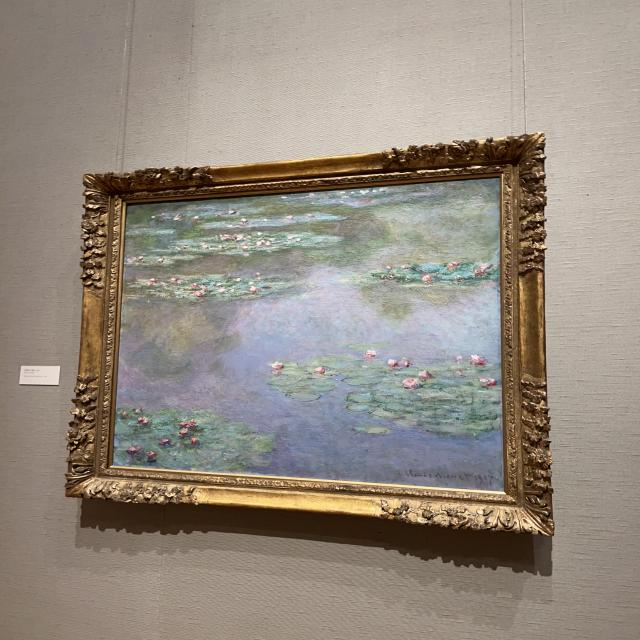lilies: (119, 180, 499, 488)
